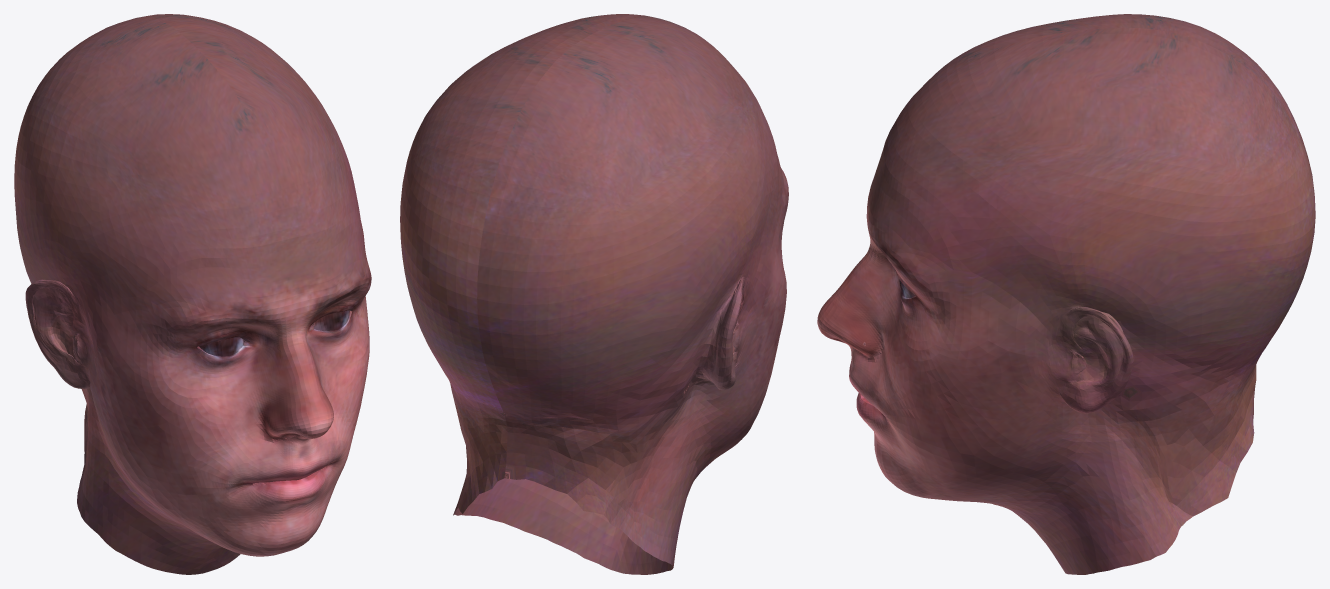
The model's file is result_concrete.obj.
The picture shows the model from 3 angles, left to right: view 1: azimuth 30°, elevation 25°; view 2: azimuth 150°, elevation 25°; view 3: azimuth 270°, elevation 25°; orthographic projection. The views are drawn at different scales.
Bounding box in the file's own units: 193 × 312 × 262.
